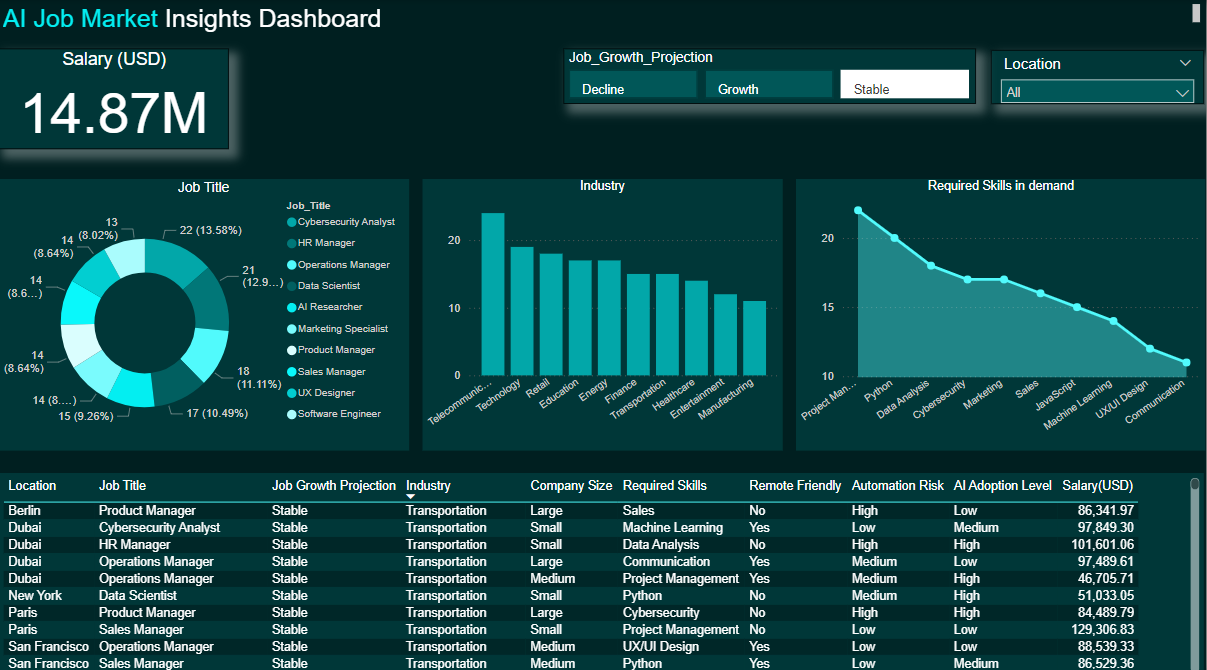

The dashboard page shown, as its layout file describes it:
{"tool":"powerbi","page":{"name":"Overview","canvas":[1280,720],"ordinal":0},"visuals":[{"type":"slicer","fields":{"Values":["ai_job_market_insights.Location"]},"box":[1053,54.1,225.9,57.3],"z":0},{"type":"textbox","box":[0,0,1279.4,39.7],"z":1000},{"type":"donutChart","title":"Job Title","fields":{"Category":["ai_job_market_insights.Job_Title"],"Y":["CountNonNull(ai_job_market_insights.Job_Title)"]},"box":[0,190.9,435.8,287.9],"z":2000},{"type":"card","title":"Salary (USD)","fields":{"Values":["Sum(ai_job_market_insights.Salary_USD)"]},"box":[0,52.5,245,106.6],"z":3000},{"type":"columnChart","title":" Industry","fields":{"Category":["ai_job_market_insights.Industry"],"Y":["CountNonNull(ai_job_market_insights.Industry)"]},"box":[450.1,190.9,381.7,287.9],"z":4000},{"type":"advancedSlicerVisual","fields":{"Values":["ai_job_market_insights.Job_Growth_Projection"]},"box":[599.7,52.5,437.4,58.9],"z":5000},{"type":"tableEx","fields":{"Values":["ai_job_market_insights.Location","ai_job_market_insights.Job_Title","ai_job_market_insights.Job_Growth_Projection","ai_job_market_insights.Industry","ai_job_market_insights.Company_Size","ai_job_market_insights.Required_Skills","ai_job_market_insights.Remote_Friendly","ai_job_market_insights.Automation_Risk","ai_job_market_insights.AI_Adoption_Level","Sum(ai_job_market_insights.Salary_USD)"]},"box":[0,502.6,1278.9,217.9],"z":6000},{"type":"stackedAreaChart","title":" Required Skills in demand","fields":{"Category":["ai_job_market_insights.Required_Skills"],"Y":["CountNonNull(ai_job_market_insights.Required_Skills)"]},"box":[846.2,190.9,434.2,287.9],"z":7000}]}

Visuals, with their boxes in screenshot pixels (x1, y1, x2, y2), scaled from the page's 1280x720 canvas onto the 1207x670 screenshot:
slicer - ai_job_market_insights.Location: (993, 50, 1206, 104)
textbox: (0, 0, 1206, 37)
"Job Title" donutChart: (0, 178, 411, 446)
"Salary (USD)" card: (0, 49, 231, 148)
" Industry" columnChart: (424, 178, 784, 446)
advancedSlicerVisual - ai_job_market_insights.Job_Growth_Projection: (565, 49, 978, 104)
tableEx - ai_job_market_insights.Location x ai_job_market_insights.Job_Title: (0, 468, 1206, 669)
" Required Skills in demand" stackedAreaChart: (798, 178, 1206, 446)
